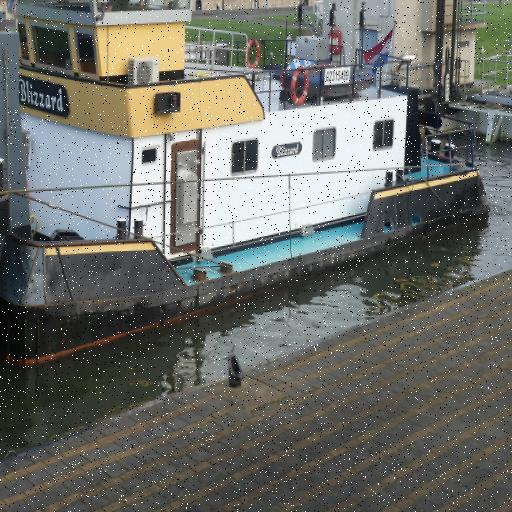tugboat: (1, 1, 494, 384)
